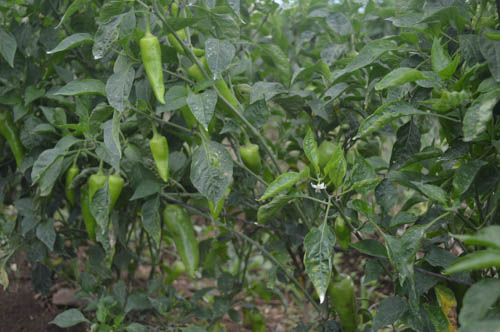ChiliPepper: (163, 206, 200, 276), (142, 37, 166, 107), (328, 274, 355, 321), (144, 139, 169, 183), (75, 189, 92, 234), (237, 148, 259, 169), (103, 178, 121, 203), (62, 165, 75, 196), (86, 174, 105, 195)
